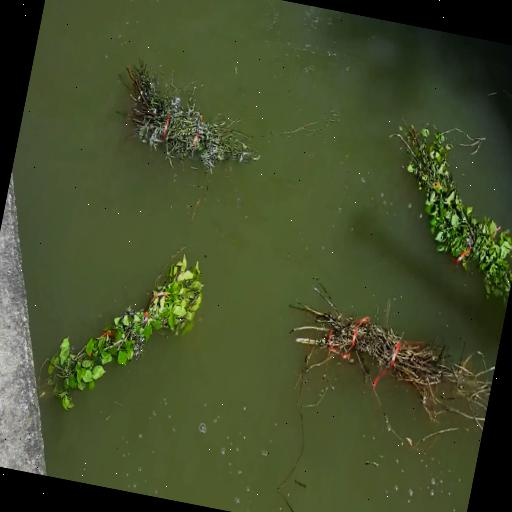twig: (44, 242, 206, 434), (289, 286, 493, 420), (368, 117, 512, 305), (124, 76, 254, 174)
